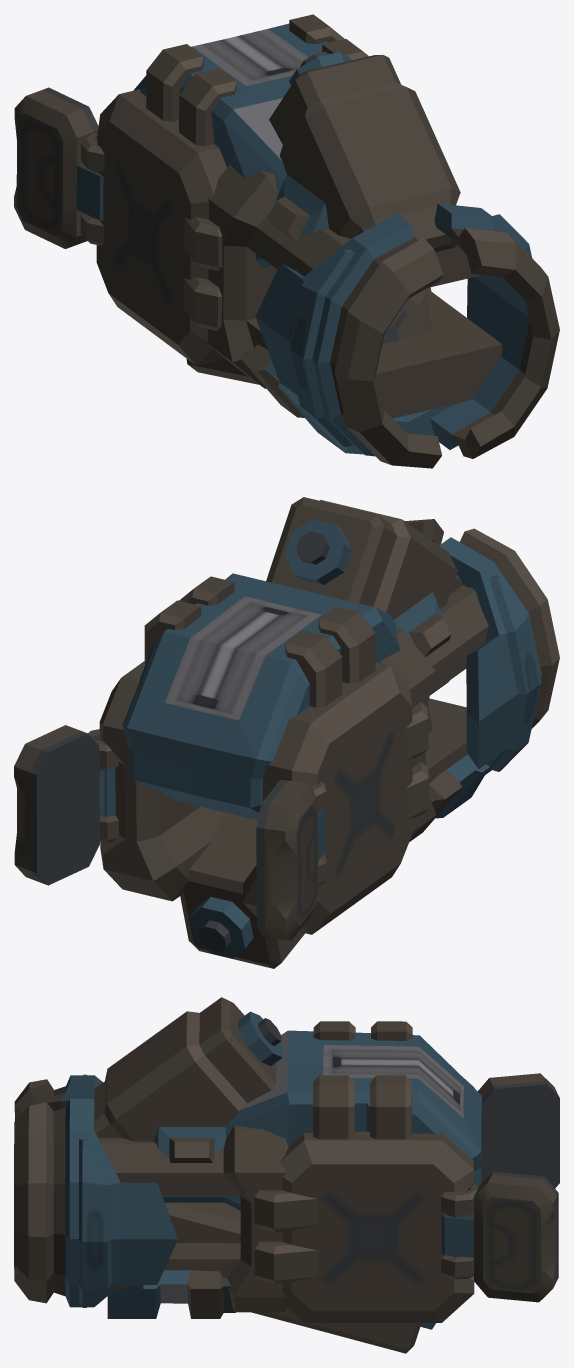
Rendered from SM_Mech_Arm_01_Armor_Forearm_04.fbx.
The picture shows the model from 3 angles, top to bottom: view 1: azimuth 30°, elevation 25°; view 2: azimuth 150°, elevation 25°; view 3: azimuth 270°, elevation 25°; orthographic projection. The views are drawn at different scales.
Parts seen in each view (by area): view 1: SM_Mech_Arm_01_Armor_Forearm_04; view 2: SM_Mech_Arm_01_Armor_Forearm_04; view 3: SM_Mech_Arm_01_Armor_Forearm_04.
Boxes of the visible parts, x1,y1,x2,y2 form: SM_Mech_Arm_01_Armor_Forearm_04: (14,14,559,468); SM_Mech_Arm_01_Armor_Forearm_04: (14,497,559,968); SM_Mech_Arm_01_Armor_Forearm_04: (14,997,559,1353).
Bounding box in the file's own units: 63.48 × 81.08 × 123.
